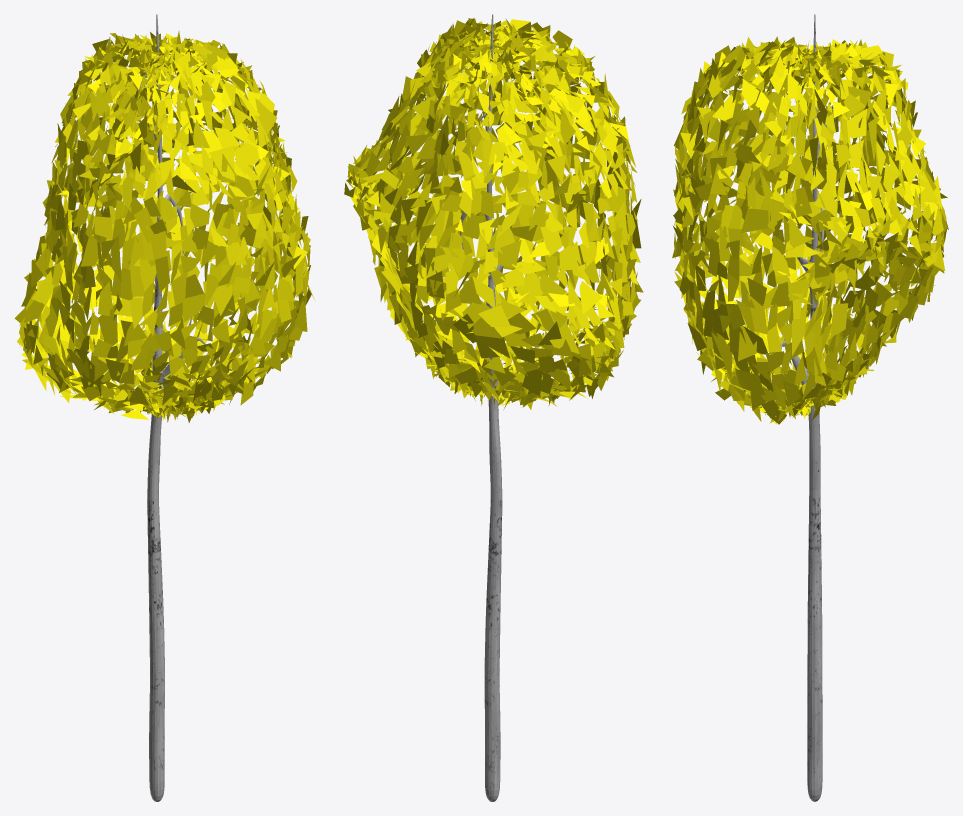
The model's file is Leaves55.fbx.
The picture shows the model from 3 angles, left to right: view 1: azimuth 30°, elevation 25°; view 2: azimuth 150°, elevation 25°; view 3: azimuth 270°, elevation 25°; orthographic projection.
Parts seen in each view (by area): view 1: Leaves55; view 2: Leaves55; view 3: Leaves55.
Part boxes in pixels (x1=…): Leaves55: x1=14, y1=14, x2=315, y2=801; Leaves55: x1=344, y1=14, x2=643, y2=801; Leaves55: x1=672, y1=14, x2=948, y2=801.
Size of the model in its own units: 903 by 2574 by 820.
Materials: 2 (1 with a texture image).
